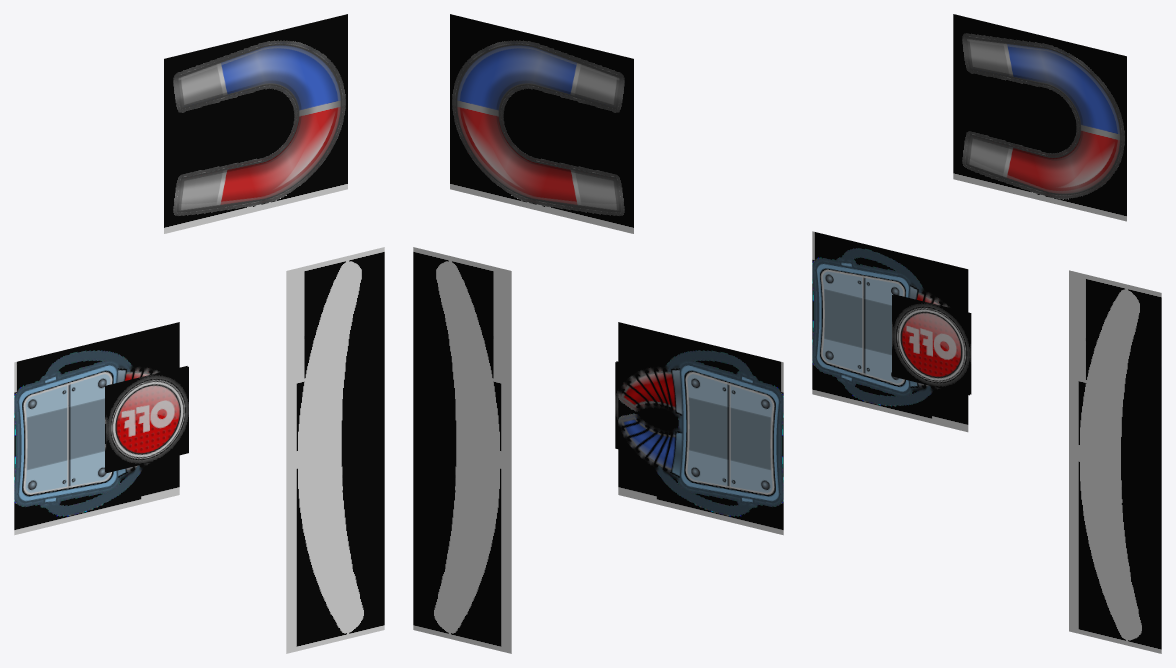
Rendered from magnets.glb.
The picture shows the model from 3 angles, left to right: view 1: azimuth 30°, elevation 25°; view 2: azimuth 150°, elevation 25°; view 3: azimuth 330°, elevation 25°; orthographic projection. The views are drawn at different scales.
Parts seen in each view (by area): view 1: magnet_wave, magnet, electromagnet, electromagnet_OFF; view 2: magnet_wave, magnet, electromagnet; view 3: magnet_wave, magnet, electromagnet, electromagnet_OFF.
Boxes of the visible parts, bbox=[...] form: magnet_wave: bbox=[286, 247, 384, 653]; magnet: bbox=[164, 14, 347, 233]; electromagnet: bbox=[14, 322, 179, 535]; electromagnet_OFF: bbox=[106, 366, 188, 473]; magnet_wave: bbox=[413, 247, 511, 653]; magnet: bbox=[450, 14, 633, 233]; electromagnet: bbox=[618, 322, 783, 535]; magnet_wave: bbox=[1069, 270, 1161, 653]; magnet: bbox=[953, 14, 1126, 221]; electromagnet: bbox=[812, 231, 968, 432]; electromagnet_OFF: bbox=[892, 295, 969, 395].
Size of the model in its own units: 172 by 277 by 3.
Materials: 1 (1 with a texture image).
